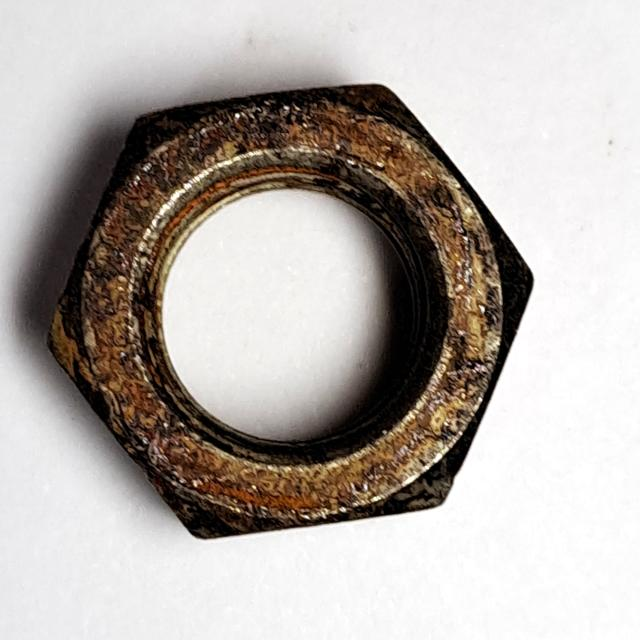Rust: (34, 68, 544, 557)
